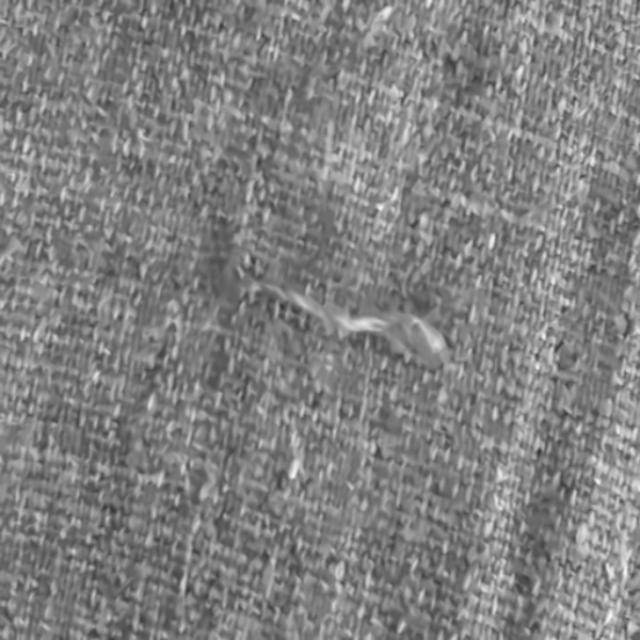stains: (161, 166, 532, 460)
